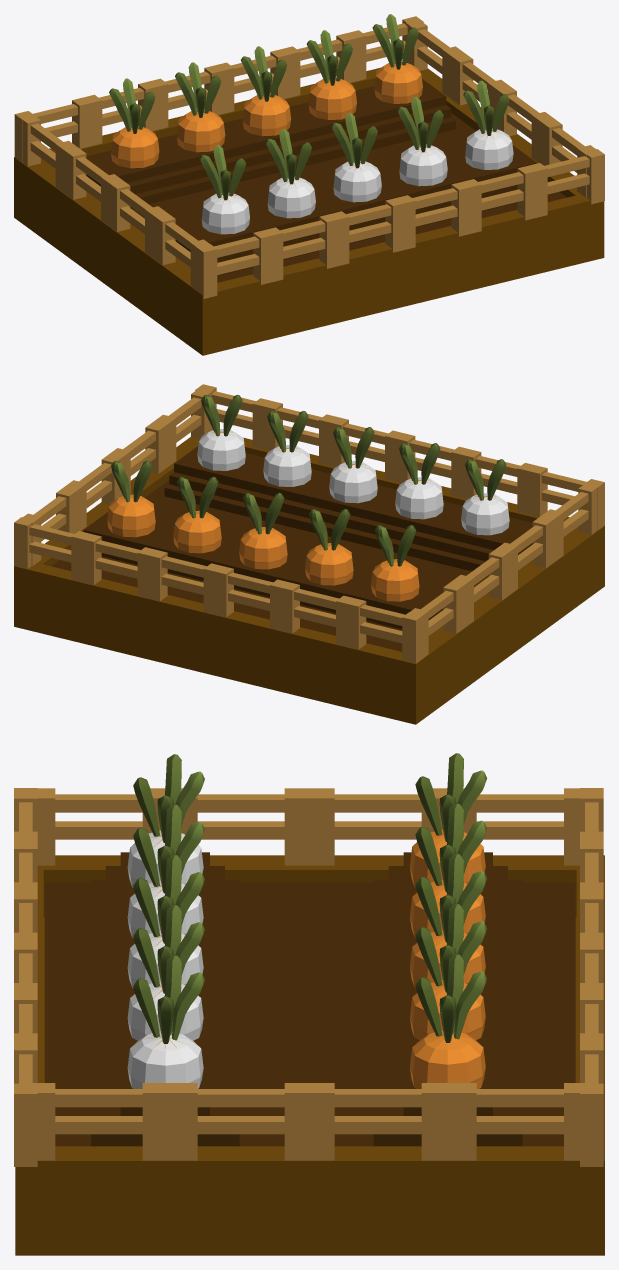
The model's file is MiniGerden.fbx.
The picture shows the model from 3 angles, top to bottom: view 1: azimuth 30°, elevation 25°; view 2: azimuth 150°, elevation 25°; view 3: azimuth 270°, elevation 25°; orthographic projection. The views are drawn at different scales.
Visible parts, largest first — view 1: Cube.003, Cube.002, carrot_1.004, carrot_1.005, Fence.040, Fence.037, Fence.039, Fence.035, Fence.036, Fence.038, Fence.029, Fence.043 (+12 smaller); view 2: Cube.003, Cube.002, carrot_1.004, carrot_1.005, Fence.029, Fence.031, Fence.033, Fence.032, Fence.030, Fence.034, Fence.043, Fence.042 (+12 smaller); view 3: Cube.003, Cube.002, carrot_1.004, carrot_1.005, Fence.046, Fence.047, Fence.045, Fence.048, Fence.042, Fence.043, Fence.044, Fence.041 (+12 smaller).
Part boxes in pixels (bbox=[...]): Cube.003: bbox=[14, 67, 604, 355]; Cube.002: bbox=[86, 79, 536, 275]; carrot_1.004: bbox=[109, 14, 422, 168]; carrot_1.005: bbox=[199, 80, 513, 234]; Fence.040: bbox=[196, 229, 274, 298]; Fence.037: bbox=[394, 182, 472, 250]; Fence.039: bbox=[263, 213, 340, 282]; Fence.035: bbox=[527, 149, 604, 218]; Fence.036: bbox=[460, 165, 538, 234]; Fence.038: bbox=[329, 198, 406, 266]; Fence.029: bbox=[14, 97, 93, 162]; Fence.043: bbox=[108, 180, 166, 258]; Cube.003: bbox=[14, 437, 604, 724]; Cube.002: bbox=[83, 446, 532, 630]; carrot_1.004: bbox=[107, 460, 419, 601]; carrot_1.005: bbox=[197, 394, 509, 535]; Fence.029: bbox=[344, 597, 423, 663]; Fence.031: bbox=[212, 566, 290, 631]; Fence.033: bbox=[80, 533, 153, 598]; Fence.032: bbox=[146, 549, 224, 613]; Fence.030: bbox=[278, 582, 353, 646]; Fence.034: bbox=[14, 517, 89, 582]; Fence.043: bbox=[496, 515, 554, 594]; Fence.042: bbox=[452, 548, 510, 626]; Cube.003: bbox=[15, 855, 604, 1255]; Cube.002: bbox=[91, 852, 522, 1146]; carrot_1.004: bbox=[409, 753, 486, 1088]; carrot_1.005: bbox=[127, 754, 204, 1088]; Fence.046: bbox=[170, 1083, 312, 1160]; Fence.047: bbox=[307, 1083, 449, 1160]; Fence.045: bbox=[28, 1083, 169, 1160]; Fence.048: bbox=[449, 1083, 591, 1160]; Fence.042: bbox=[307, 788, 447, 865]; Fence.043: bbox=[180, 788, 312, 865]; Fence.044: bbox=[28, 788, 165, 865]; Fence.041: bbox=[463, 788, 591, 865].
Size of the model in its own units: 4.87 by 1.75 by 3.97.
